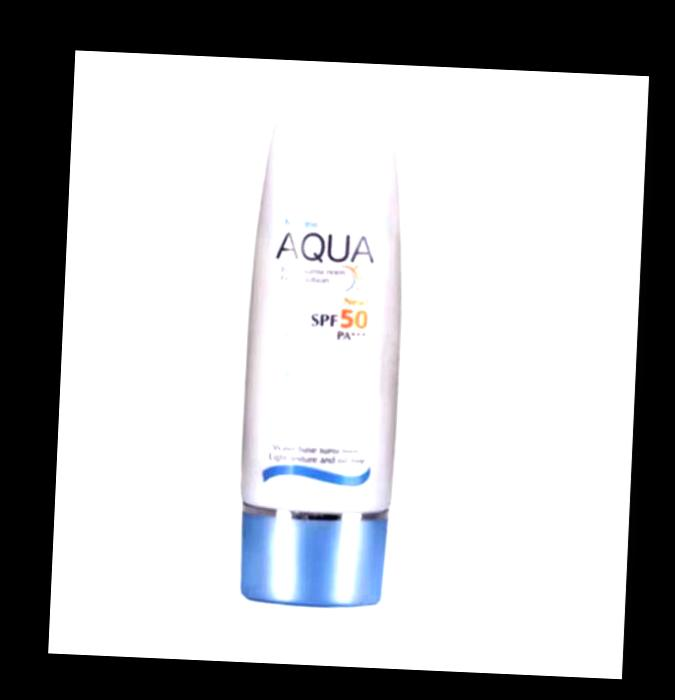cosmetic: (235, 116, 416, 608)
